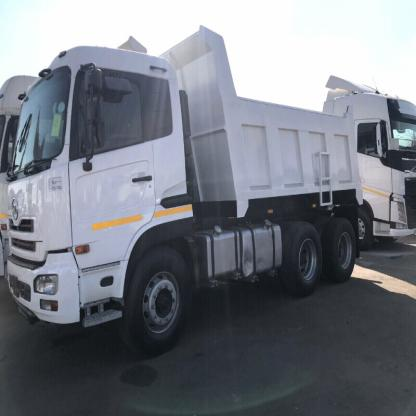dump_truck: (10, 20, 364, 345), (350, 83, 415, 277)
